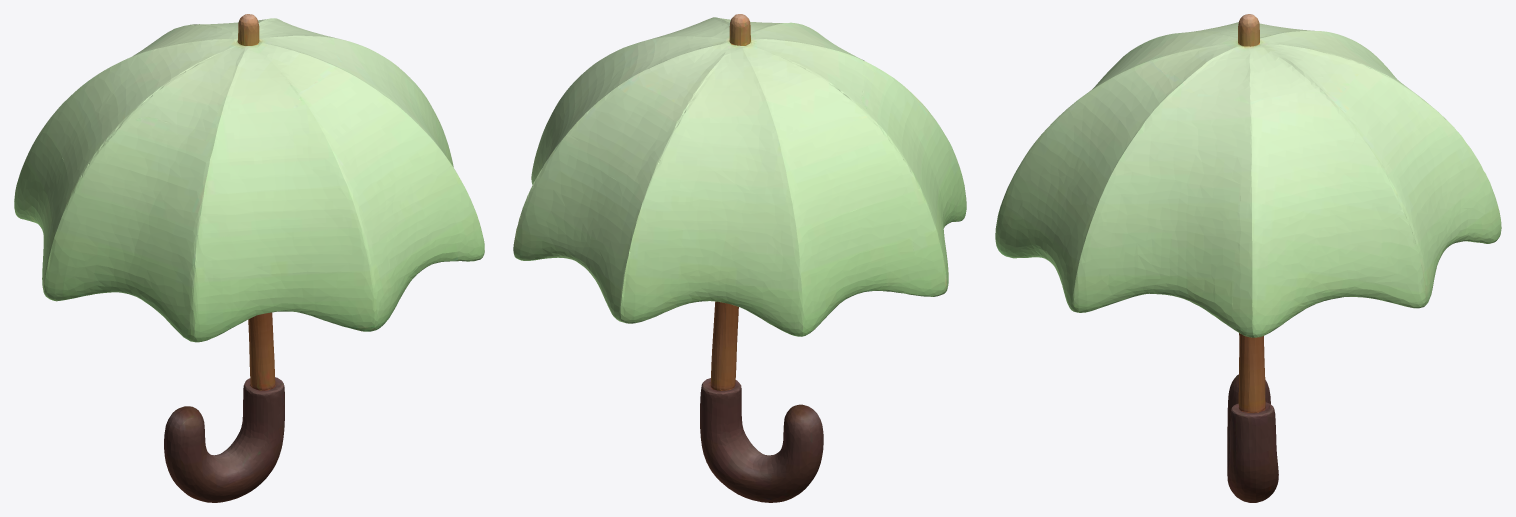
Rendered from umbrella.glb.
The picture shows the model from 3 angles, left to right: view 1: azimuth 30°, elevation 25°; view 2: azimuth 150°, elevation 25°; view 3: azimuth 270°, elevation 25°; orthographic projection. The views are drawn at different scales.
Visible parts, largest first — view 1: geometry_0; view 2: geometry_0; view 3: geometry_0.
Part boxes in pixels (x1,y1,x2,y2): geometry_0: [14, 14, 484, 502]; geometry_0: [513, 14, 966, 502]; geometry_0: [995, 14, 1501, 502].
Size of the model in its own units: 0.8996 by 0.9996 by 0.9317.
1 material, 1 textured.
